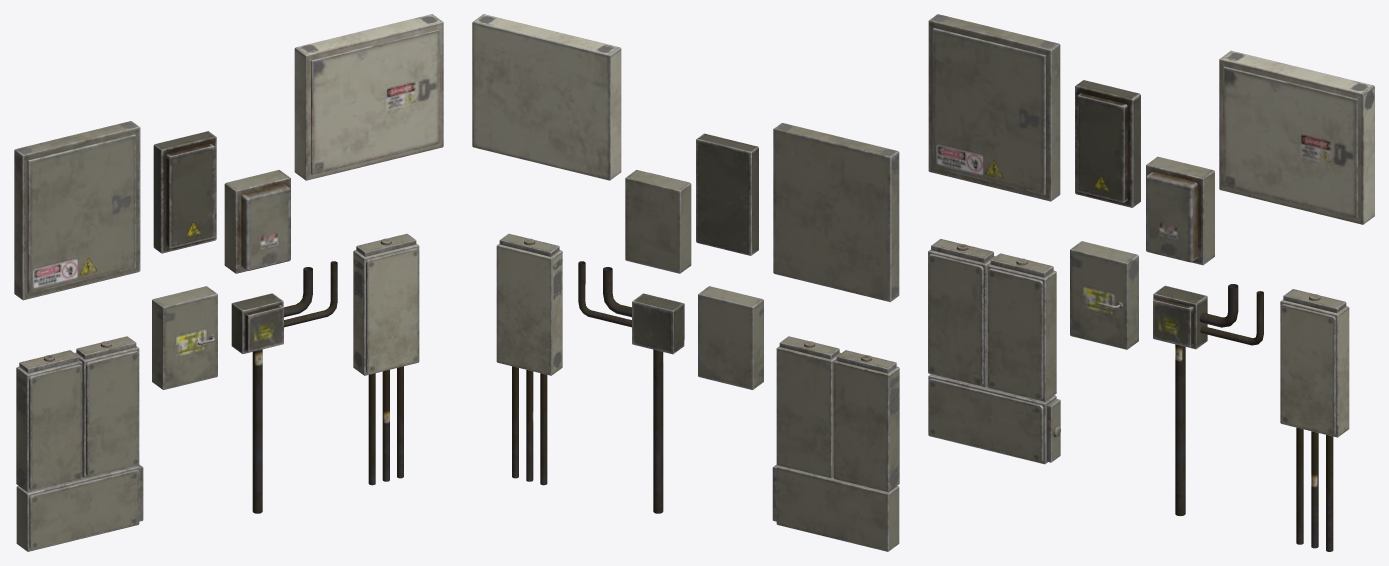
File: elecboxes.glb
3 views of the same model, side by side, from view 1: azimuth 30°, elevation 25°; view 2: azimuth 150°, elevation 25°; view 3: azimuth 330°, elevation 25° (orthographic). The views are drawn at different scales.
Parts seen in each view (by area): view 1: modular-box-01, modular-box-04, modular-box-03, modular-box-group-04.003, modular-box-group-02.003, modular-box-group-01.003, modular-box-group-03.003, modular-box-02, modular-box-05, modular-box-06, modular-box-group-04.000, modular-box-group-01.000 (+10 smaller); view 2: modular-box-01, modular-box-04, modular-box-group-01.000, modular-box-group-04.000, modular-box-group-03.000, modular-box-03, modular-box-group-02.000, modular-box-02, modular-box-05, modular-box-06, modular-tube-a01, modular-tube-b01 (+6 smaller); view 3: modular-box-01, modular-box-04, modular-box-03, modular-box-group-02.003, modular-box-group-03.003, modular-box-group-04.003, modular-box-group-01.003, modular-box-02, modular-box-05, modular-box-06, modular-box-group-04.000, modular-box-group-02.000 (+11 smaller).
Part boxes in pixels (x1,y1,x2,y2): modular-box-01: [294, 14, 443, 180]; modular-box-04: [14, 121, 140, 300]; modular-box-03: [153, 131, 216, 253]; modular-box-group-04.003: [366, 248, 419, 374]; modular-box-group-02.003: [86, 350, 139, 476]; modular-box-group-01.003: [29, 364, 82, 490]; modular-box-group-03.003: [29, 470, 139, 550]; modular-box-02: [224, 170, 290, 273]; modular-box-05: [152, 286, 217, 389]; modular-box-06: [231, 293, 283, 353]; modular-box-group-04.000: [353, 243, 419, 375]; modular-box-group-01.000: [16, 360, 82, 492]; modular-box-01: [472, 14, 621, 180]; modular-box-04: [773, 123, 899, 302]; modular-box-group-01.000: [833, 360, 899, 492]; modular-box-group-04.000: [496, 244, 562, 375]; modular-box-group-03.000: [776, 465, 899, 551]; modular-box-03: [696, 133, 758, 255]; modular-box-group-02.000: [776, 346, 840, 478]; modular-box-02: [625, 170, 691, 273]; modular-box-05: [698, 286, 763, 389]; modular-box-06: [632, 293, 684, 354]; modular-tube-a01: [653, 349, 663, 513]; modular-tube-b01: [540, 373, 547, 485]; modular-box-01: [1219, 50, 1374, 224]; modular-box-04: [928, 14, 1060, 201]; modular-box-03: [1075, 80, 1140, 207]; modular-box-group-02.003: [987, 268, 1043, 400]; modular-box-group-03.003: [928, 378, 1043, 462]; modular-box-group-04.003: [1280, 304, 1335, 435]; modular-box-group-01.003: [928, 254, 983, 385]; modular-box-02: [1146, 156, 1214, 265]; modular-box-05: [1070, 241, 1138, 349]; modular-box-06: [1153, 285, 1207, 349]; modular-box-group-04.000: [1280, 299, 1349, 437]; modular-box-group-02.000: [987, 264, 1056, 401].
Bounding box in the file's own units: 2.1 × 2.16 × 0.15.
Materials: 1 (1 with a texture image).
